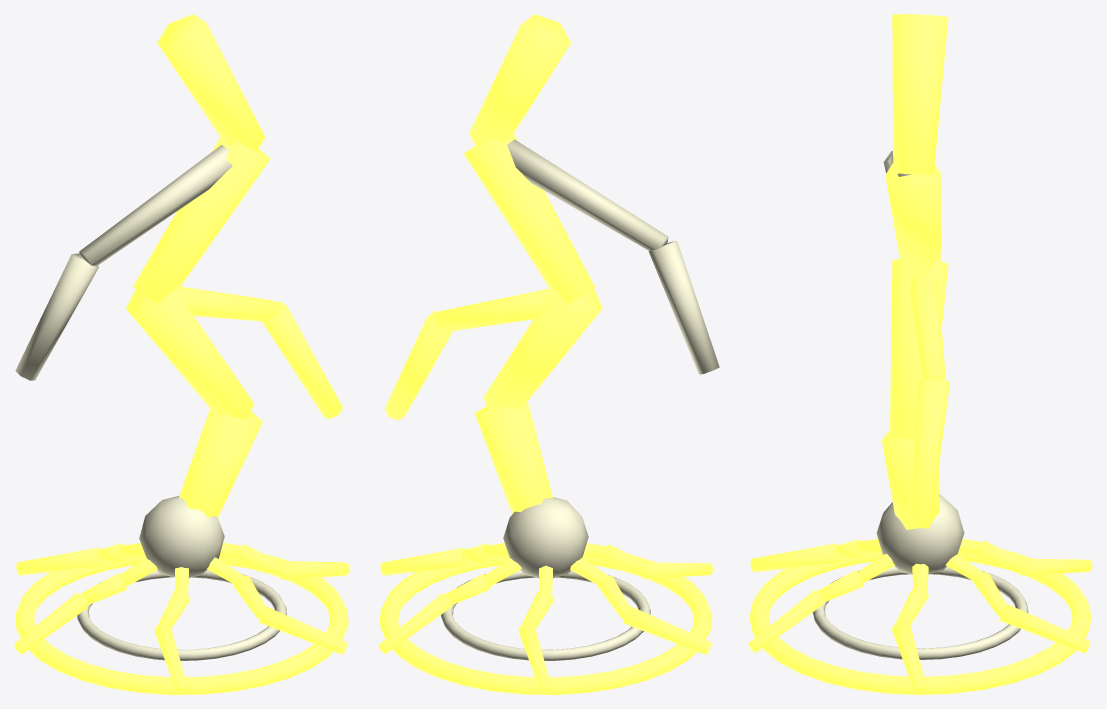
File: thunderbolt_pikachu.fbx
3 renders of one model, left to right at view 1: azimuth 30°, elevation 25°; view 2: azimuth 150°, elevation 25°; view 3: azimuth 270°, elevation 25°, orthographic. The views are drawn at different scales.
Parts seen in each view (by area): view 1: ThunderboltFX; view 2: ThunderboltFX; view 3: ThunderboltFX.
Part boxes in pixels (x1,y1,x2,y2): ThunderboltFX: (14,14,349,694); ThunderboltFX: (378,14,719,694); ThunderboltFX: (748,14,1092,694).
Size of the model in its own units: 0.00225 by 0.0039 by 0.00196.
